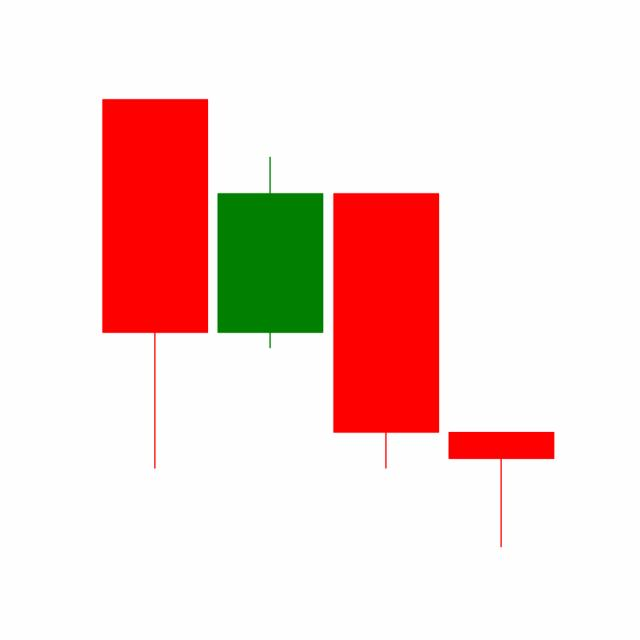Marubozu: (328, 190, 444, 472)
